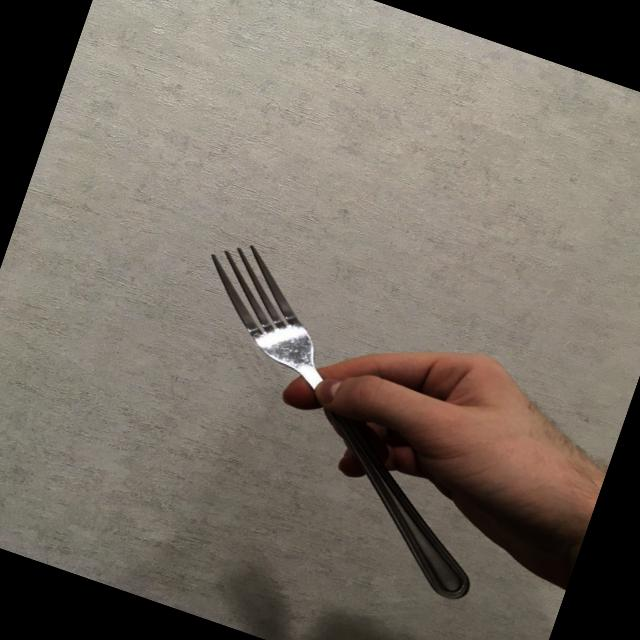fork: (122, 232, 552, 604)
